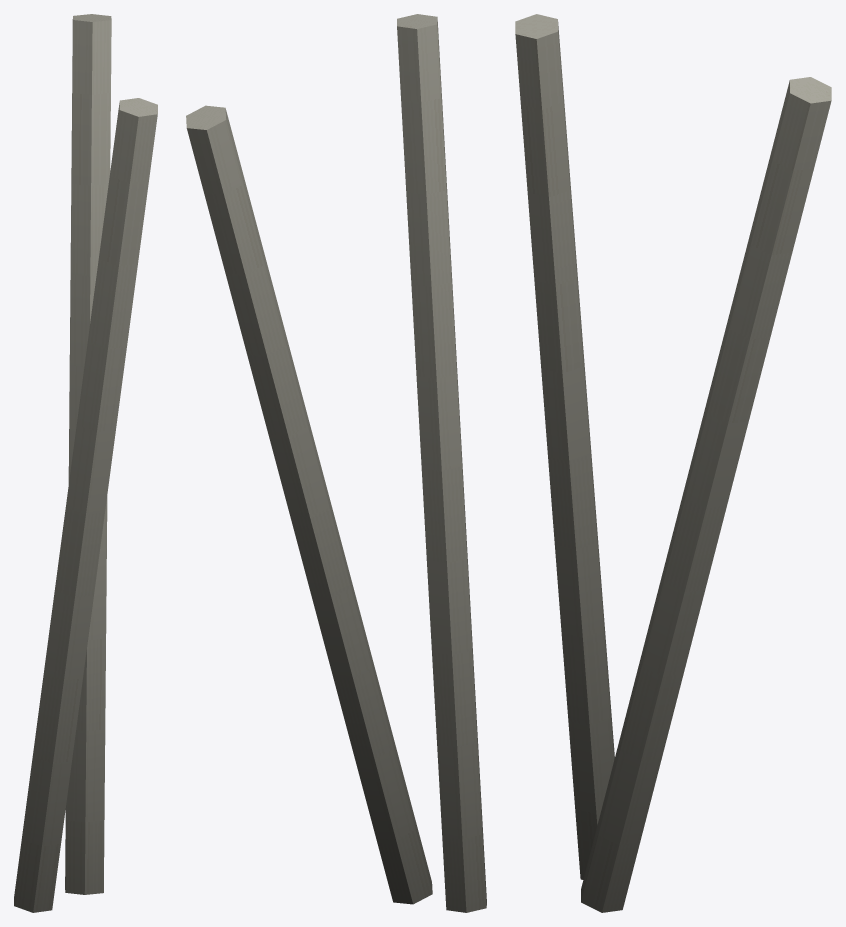
Rendered from prop_map_roll-0.glb.
3 views of the same model, side by side, from view 1: azimuth 30°, elevation 25°; view 2: azimuth 150°, elevation 25°; view 3: azimuth 270°, elevation 25° (orthographic). The views are drawn at different scales.
Parts seen in each view (by area): view 1: prop_map_roll-0; view 2: prop_map_roll-0; view 3: prop_map_roll-0.
Part boxes in pixels (x1,y1,x2,y2): prop_map_roll-0: (14,14,157,912); prop_map_roll-0: (186,14,486,912); prop_map_roll-0: (515,14,831,912).
Bounding box in the file's own units: 0.2986 × 1.2 × 0.3851.
Materials: 1 (1 with a texture image).
